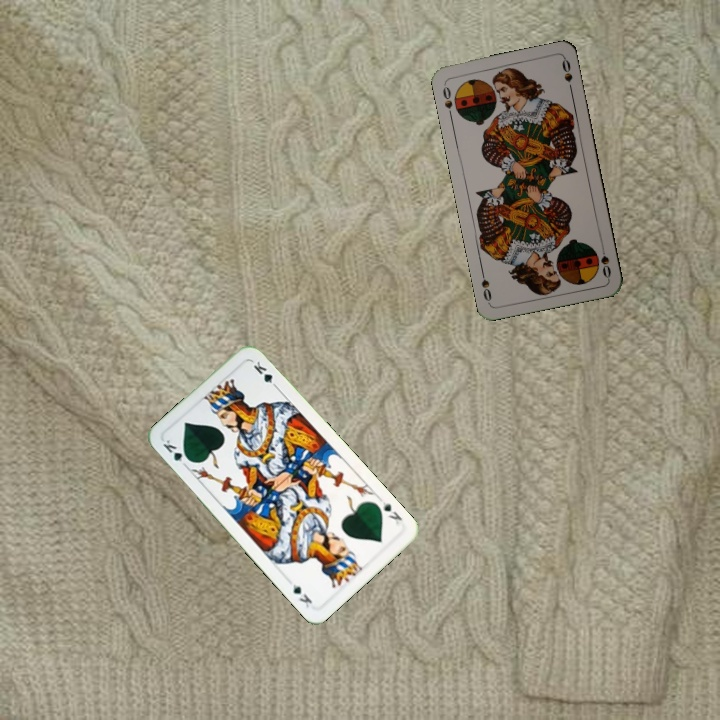GK: (159, 435, 194, 470), (378, 497, 405, 527)
SO: (597, 240, 613, 281), (439, 79, 455, 120)
